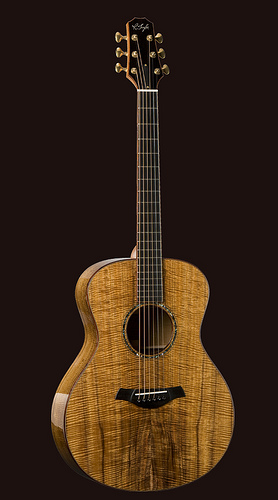guitar: (47, 14, 238, 495)
